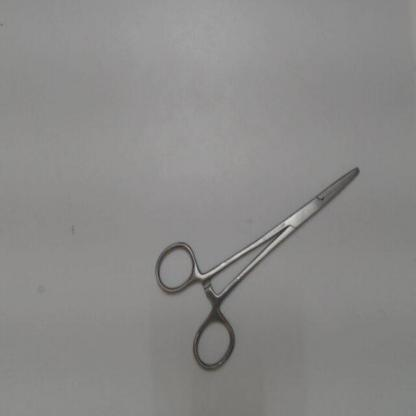Mayo Needle Holder: (147, 144, 378, 379)
